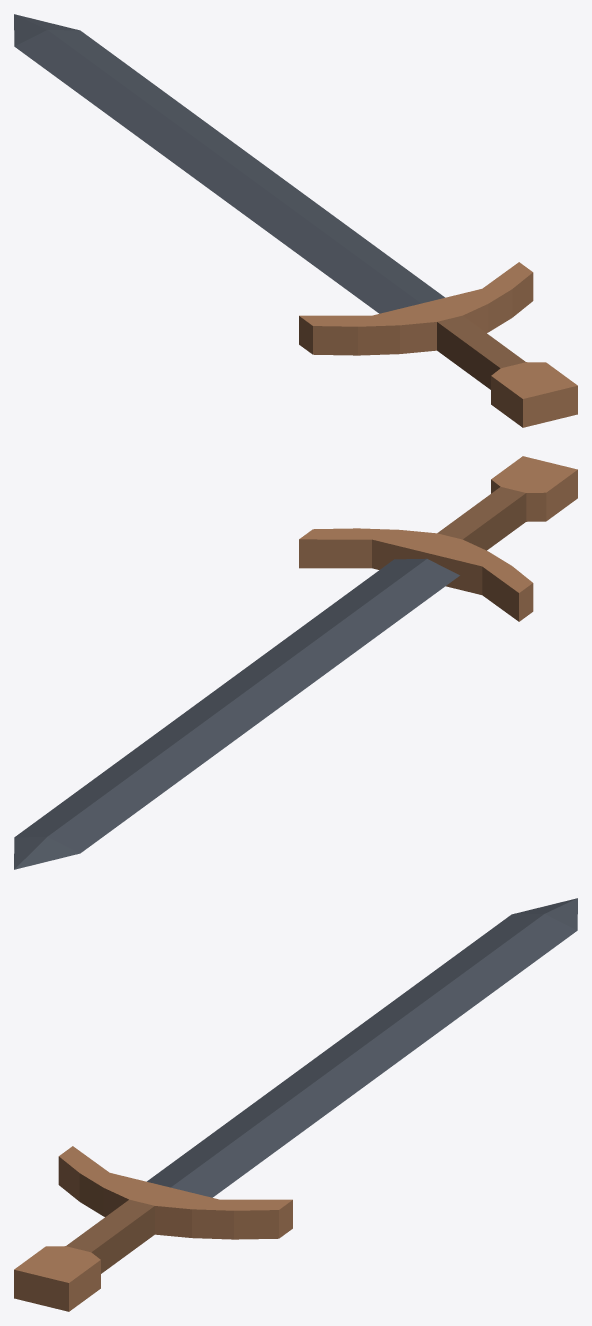
File: Sword_1_Light_Brown.fbx
3 renders of one model, top to bottom at view 1: azimuth 30°, elevation 25°; view 2: azimuth 150°, elevation 25°; view 3: azimuth 330°, elevation 25°, orthographic.
Visible parts, largest first — view 1: Sword_1_Light_Brown; view 2: Sword_1_Light_Brown; view 3: Sword_1_Light_Brown.
Part boxes in pixels (box(x1,y1,x2,y2)): Sword_1_Light_Brown: box(14, 14, 577, 427); Sword_1_Light_Brown: box(14, 456, 577, 869); Sword_1_Light_Brown: box(14, 898, 577, 1311).
Size of the model in its own units: 40 by 5 by 169.
